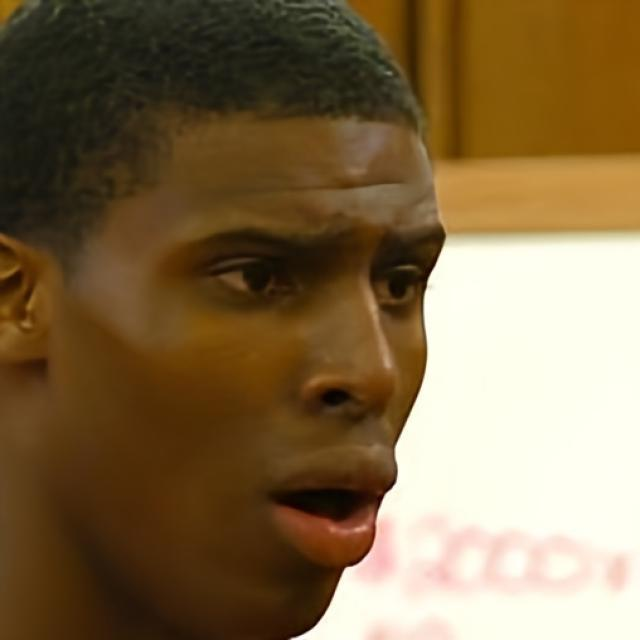anger: (44, 94, 442, 625)
